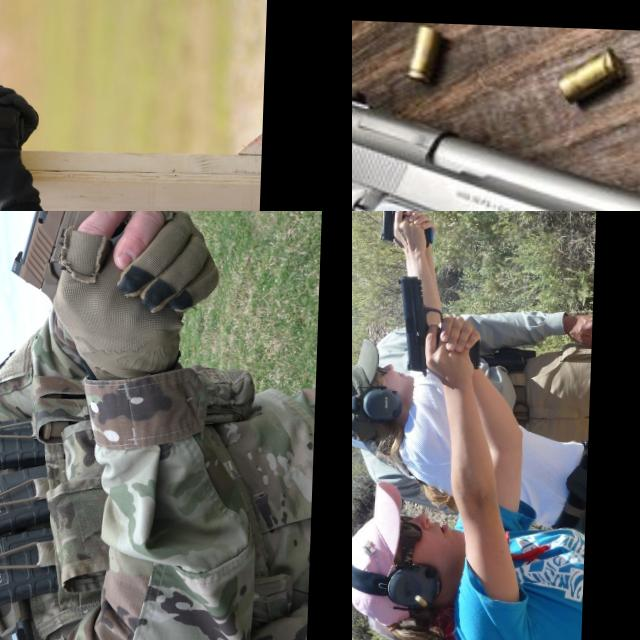handgun: (352, 77, 640, 211), (4, 211, 153, 359), (390, 272, 448, 377), (0, 29, 23, 136), (375, 211, 413, 250)
